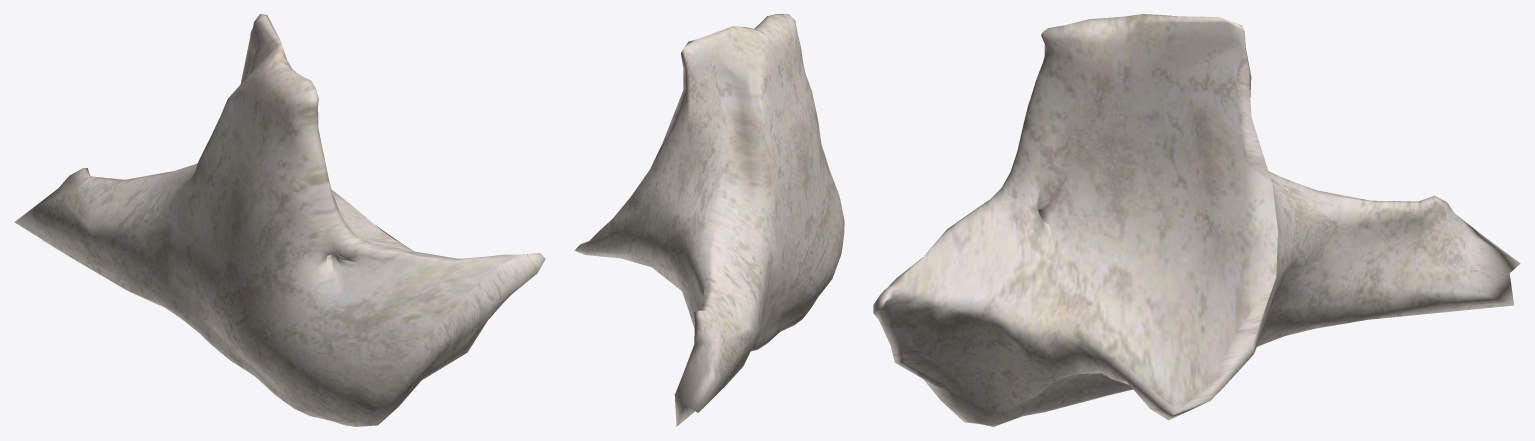
The model's file is zygomatic.obj.
3 views of the same model, side by side, from view 1: azimuth 30°, elevation 25°; view 2: azimuth 150°, elevation 25°; view 3: azimuth 270°, elevation 25° (orthographic). The views are drawn at different scales.
Visible parts, largest first — view 1: cigomatico:pPipe81 cigomatico:polySurface185 cigomatico:polySurf; view 2: cigomatico:pPipe81 cigomatico:polySurface185 cigomatico:polySurf; view 3: cigomatico:pPipe81 cigomatico:polySurface185 cigomatico:polySurf.
Part boxes in pixels (left/top/right/bottom): cigomatico:pPipe81 cigomatico:polySurface185 cigomatico:polySurf: left=14, top=14, right=545, bottom=426; cigomatico:pPipe81 cigomatico:polySurface185 cigomatico:polySurf: left=574, top=14, right=844, bottom=426; cigomatico:pPipe81 cigomatico:polySurface185 cigomatico:polySurf: left=873, top=14, right=1520, bottom=426.
Bounding box in the file's own units: 2.93 × 3.52 × 5.04.
1 material, 1 textured.
